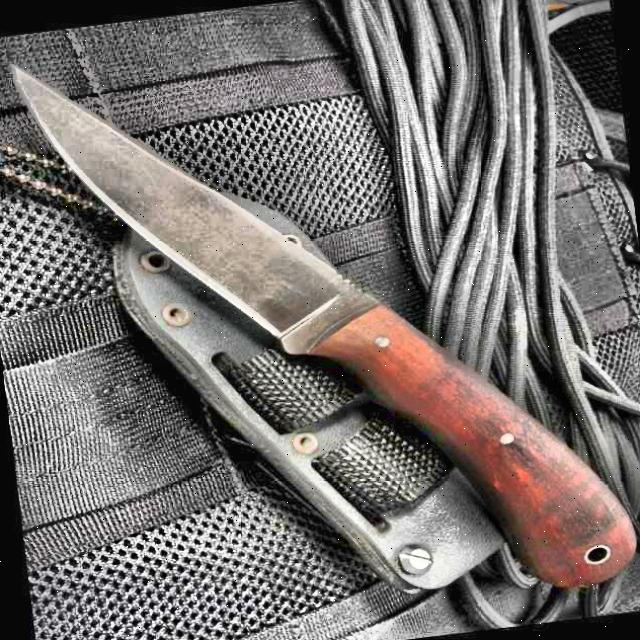knife: (11, 70, 635, 588)
